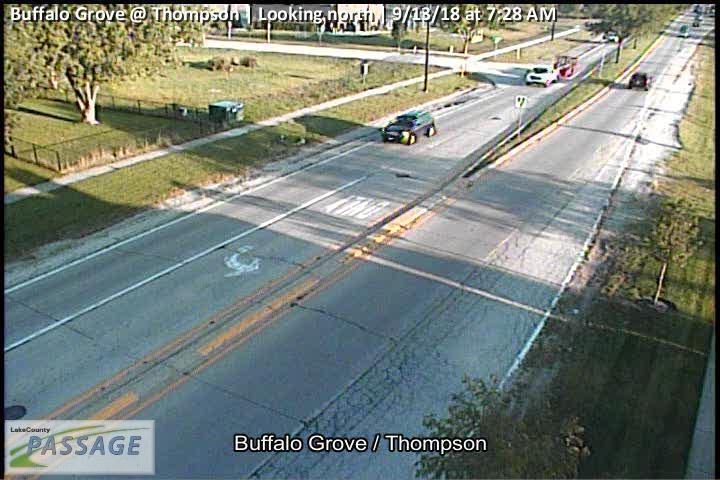SUV: (377, 109, 437, 146), (627, 72, 656, 91)
Truck: (523, 54, 578, 89)
